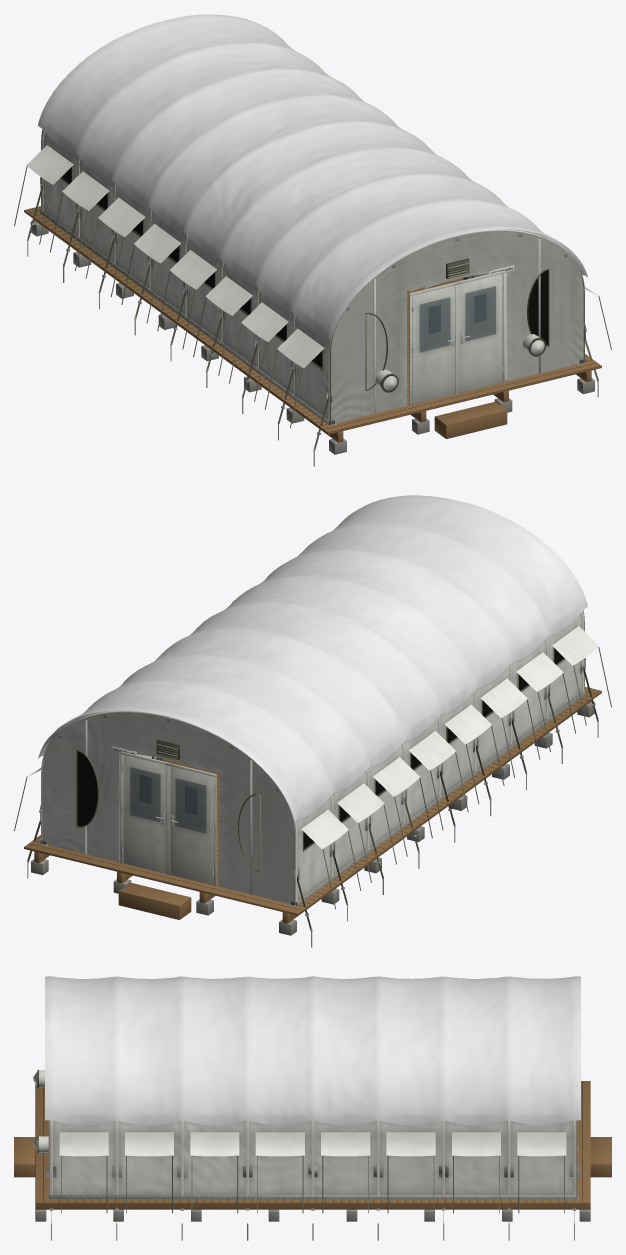
File: series8-ar.glb
3 views of the same model, one above another, from view 1: azimuth 30°, elevation 25°; view 2: azimuth 150°, elevation 25°; view 3: azimuth 270°, elevation 25° (orthographic). The views are drawn at different scales.
Visible parts, largest first — view 1: SERIES8_thermal_cap, SERIES8_shelter, SERIES8_floor; view 2: SERIES8_thermal_cap, SERIES8_shelter, SERIES8_floor; view 3: SERIES8_thermal_cap, SERIES8_shelter, SERIES8_floor.
Part boxes in pixels (x1,y1,x2,y2): SERIES8_thermal_cap: (38, 14, 587, 339); SERIES8_shelter: (14, 129, 611, 466); SERIES8_floor: (24, 206, 601, 454); SERIES8_thermal_cap: (38, 495, 587, 820); SERIES8_shelter: (14, 610, 611, 947); SERIES8_floor: (24, 687, 601, 935); SERIES8_thermal_cap: (45, 976, 580, 1125); SERIES8_shelter: (33, 1070, 579, 1240); SERIES8_floor: (14, 1081, 611, 1221).
Bounding box in the file's own units: 6.33 × 3.75 × 11.15.
22 materials, 10 textured.
